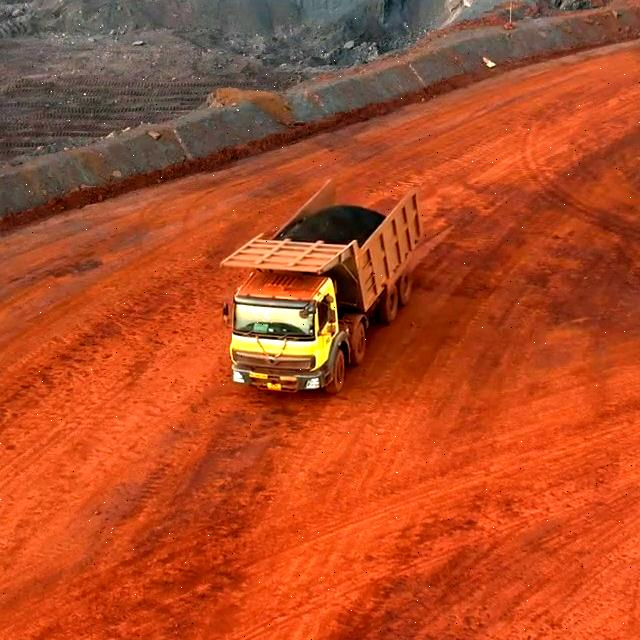Dumper truck: (222, 248, 363, 396)
